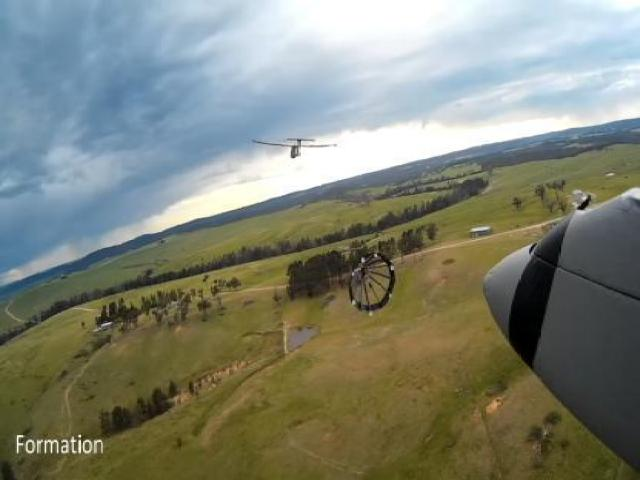uav: (248, 126, 338, 167)
